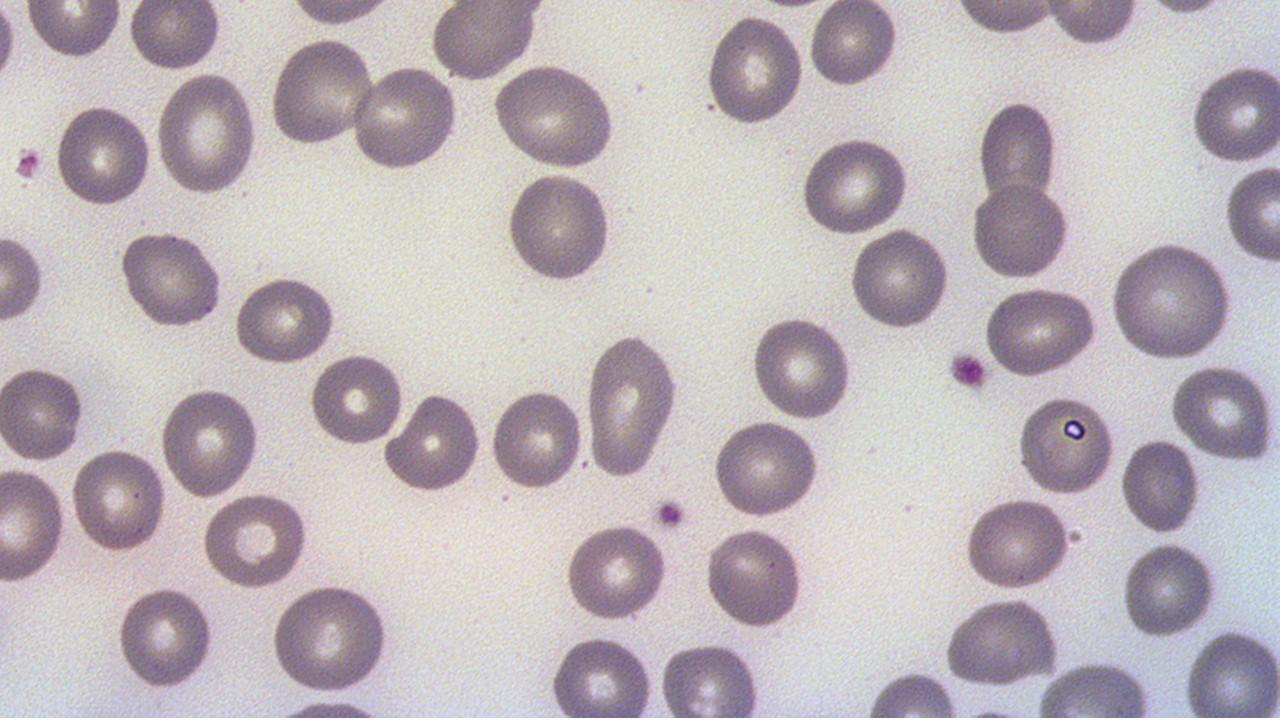Platelets: (946, 347, 988, 394)
RBC: (1108, 238, 1234, 363), (582, 330, 682, 480), (270, 580, 394, 694), (154, 68, 258, 198), (492, 63, 617, 170), (504, 168, 613, 286), (702, 11, 806, 129), (158, 384, 264, 499), (269, 34, 374, 148), (350, 65, 460, 172), (712, 417, 824, 520), (200, 489, 313, 590), (798, 136, 912, 236), (981, 285, 1101, 379), (846, 226, 952, 332), (562, 519, 670, 623), (702, 523, 806, 631), (751, 312, 854, 421), (1168, 362, 1278, 464), (113, 582, 216, 690), (942, 594, 1062, 686), (68, 446, 170, 554), (960, 494, 1073, 591), (1014, 392, 1118, 496), (117, 229, 224, 330), (382, 390, 484, 494), (968, 181, 1073, 282), (54, 102, 154, 208), (488, 385, 586, 493), (1118, 540, 1220, 640), (232, 272, 340, 366), (544, 633, 660, 715), (307, 351, 404, 447), (1188, 63, 1280, 164), (976, 98, 1062, 204), (429, 1, 544, 80), (0, 362, 86, 464), (1181, 628, 1279, 716), (1119, 434, 1201, 538), (657, 638, 766, 716), (807, 0, 899, 91), (0, 463, 68, 586), (1033, 658, 1155, 716), (126, 0, 221, 71), (1222, 162, 1280, 264), (23, 2, 123, 61), (1040, 0, 1146, 46), (0, 227, 48, 326), (951, 0, 1058, 37), (286, 0, 398, 29), (0, 0, 18, 100)
